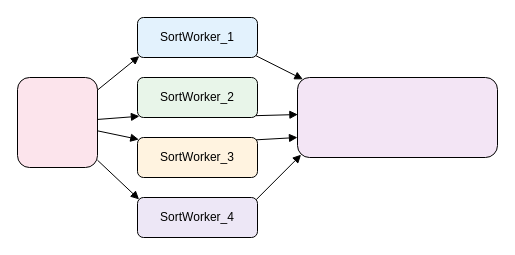
Image size: 515x255. Some labels were removed from this diagram. Each missing label, with the centre of its shape:
SortCollectorMergeEmitter: pixel 397 117
SortEmitter: pixel 57 122
